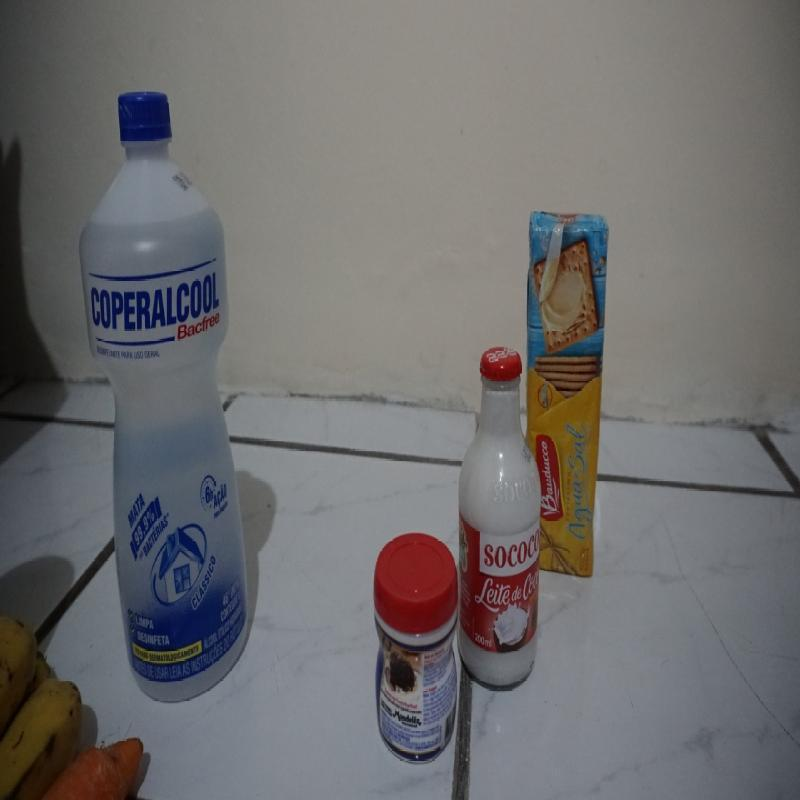Alcohol Bottle: (83, 83, 254, 698)
Banana: (5, 606, 62, 782)
Carrot: (69, 724, 154, 788)
Coconut Milk: (463, 344, 538, 694)
Cracker: (542, 205, 607, 575)
Yeast: (367, 536, 460, 752)
